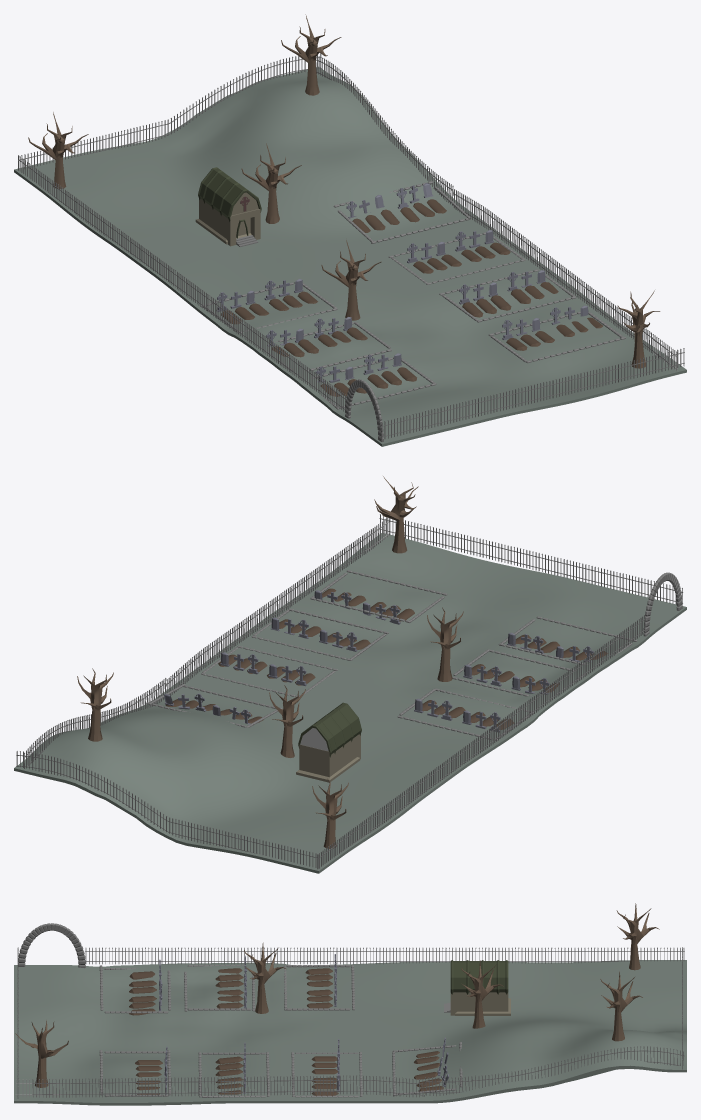
The model's file is GraveyardEnvironment.fbx.
3 views of the same model, one above another, from view 1: azimuth 30°, elevation 25°; view 2: azimuth 150°, elevation 25°; view 3: azimuth 270°, elevation 25° (orthographic). The views are drawn at different scales.
Visible parts, largest first — view 1: Landscape, MASH1_ReproMesh, MASH1_ReproMesh1, MASH2_ReproMesh, MASH2_ReproMesh1, Mosoleum1, pCylinder1, pCylinder2, pCylinder3, pCylinder5, pCylinder4, MASH5_ReproMesh; view 2: Landscape, MASH1_ReproMesh, MASH1_ReproMesh1, MASH2_ReproMesh, MASH2_ReproMesh1, Mosoleum1, pCylinder4, pCylinder3, pCylinder1, pCylinder2, pCylinder5, MASH5_ReproMesh; view 3: Landscape, MASH1_ReproMesh, MASH1_ReproMesh1, Mosoleum1, MASH5_ReproMesh, pCylinder3, pCylinder4, pCylinder1, pCylinder2, pCylinder5, polySurface1, polySurface6 (+4 smaller).
Boxes of the visible parts, x1,y1,x2,y2 form: Landscape: (14, 66, 686, 446); MASH1_ReproMesh: (315, 55, 668, 361); MASH1_ReproMesh1: (18, 155, 345, 411); MASH2_ReproMesh: (381, 348, 684, 439); MASH2_ReproMesh1: (18, 53, 321, 170); Mosoleum1: (195, 198, 260, 246); pCylinder1: (281, 14, 341, 95); pCylinder2: (241, 143, 301, 223); pCylinder3: (321, 240, 381, 320); pCylinder5: (28, 112, 88, 188); pCylinder4: (617, 290, 660, 368); MASH5_ReproMesh: (345, 379, 383, 441); Landscape: (14, 533, 686, 873); MASH1_ReproMesh: (24, 523, 380, 768); MASH1_ReproMesh1: (317, 615, 645, 869); MASH2_ReproMesh: (379, 514, 683, 604); MASH2_ReproMesh1: (16, 751, 319, 868); Mosoleum1: (296, 734, 360, 782); pCylinder4: (374, 476, 418, 553); pCylinder3: (427, 607, 463, 681); pCylinder1: (77, 668, 113, 741); pCylinder2: (269, 685, 305, 757); pCylinder5: (312, 778, 348, 848); MASH5_ReproMesh: (643, 572, 682, 636); Landscape: (14, 960, 686, 1105); MASH1_ReproMesh: (32, 1046, 684, 1097); MASH1_ReproMesh1: (85, 947, 684, 964); Mosoleum1: (450, 992, 510, 1015); MASH5_ReproMesh: (18, 923, 85, 968); pCylinder3: (244, 942, 286, 1013); pCylinder4: (15, 1020, 68, 1087); pCylinder1: (600, 971, 642, 1041); pCylinder2: (461, 960, 503, 1028); pCylinder5: (616, 903, 659, 970); polySurface1: (450, 960, 466, 994); polySurface6: (481, 960, 496, 992).
Bounding box in the file's own units: 51.42 × 20.7 × 105.
